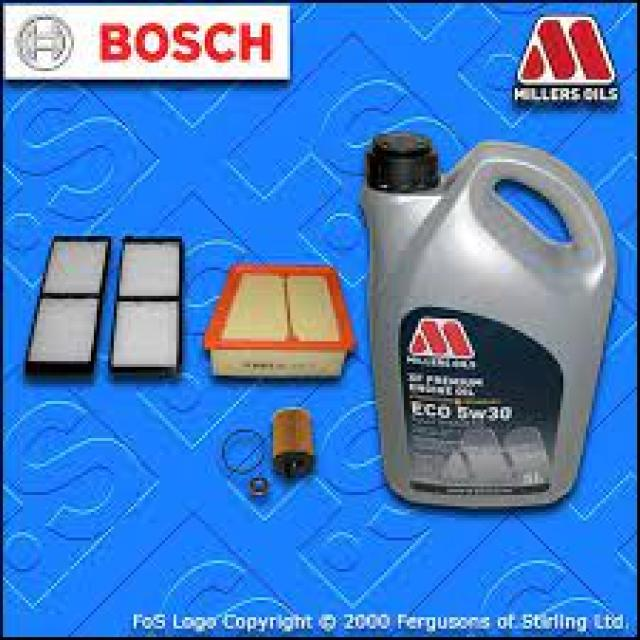air_filter: (198, 260, 358, 384), (108, 230, 188, 378), (26, 230, 105, 379)
motor_oil: (364, 122, 617, 511)
oil_filter: (268, 403, 320, 488)
